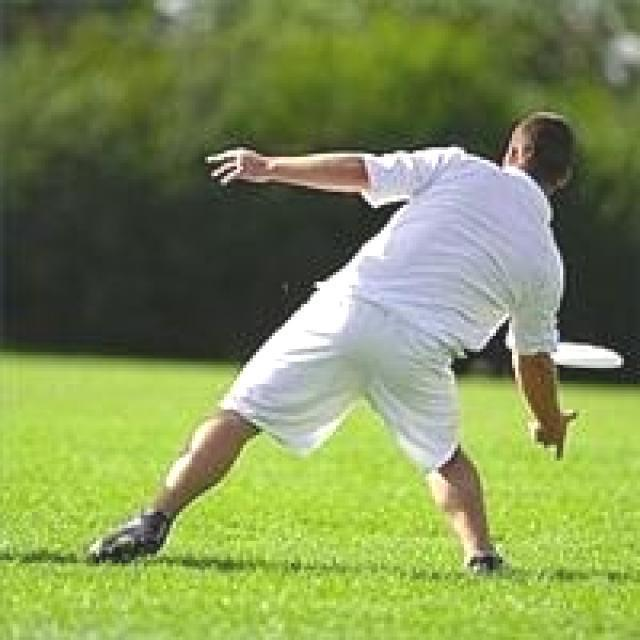no_vest: (313, 159, 568, 346)
